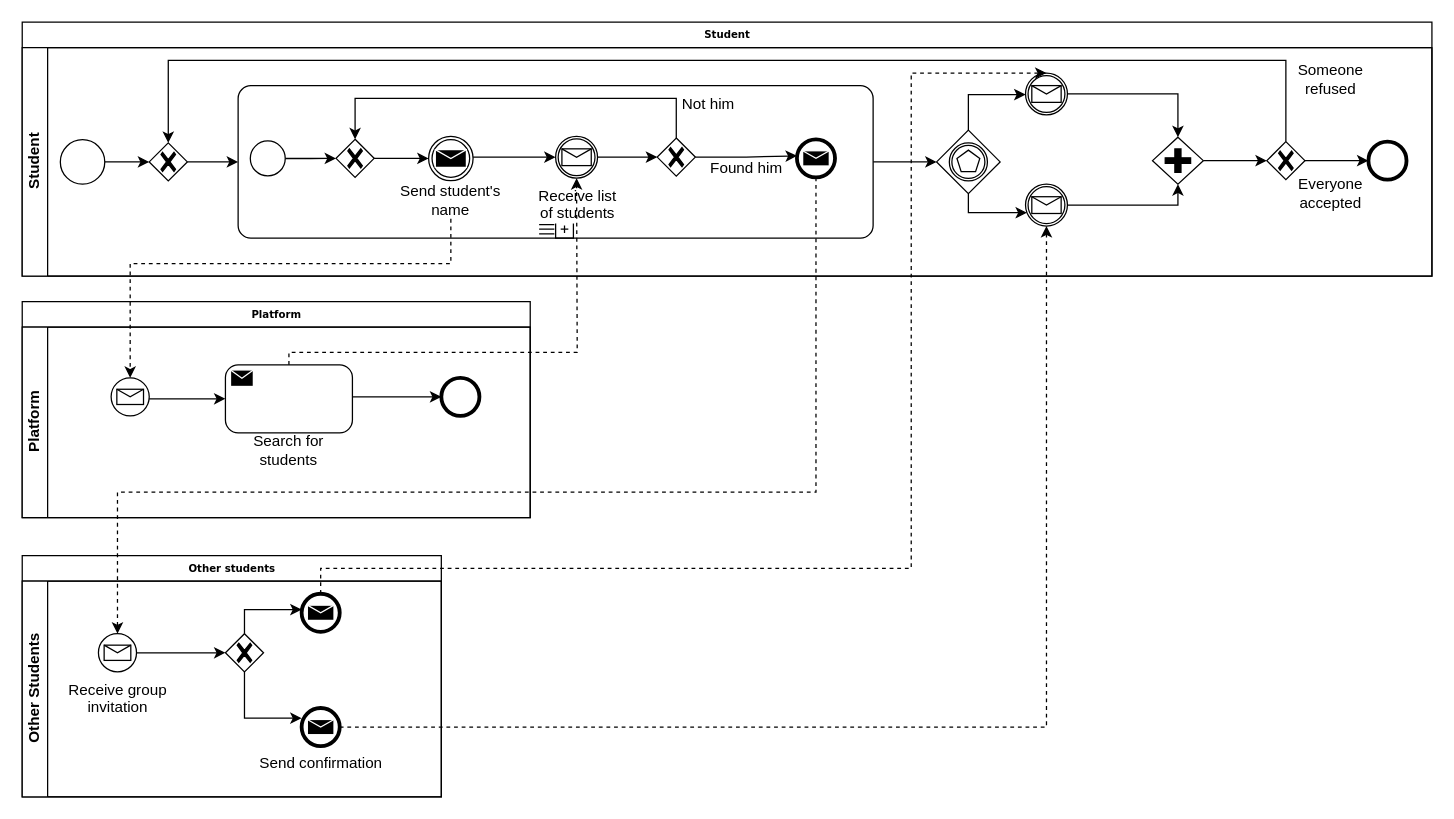
The diagram is 1454 pixels wide and 819 high, and some of its shapes have lost their labels. Each missing label, with the centre of its shape:
Receive confirmation: point (1045, 204)
Receive refusal: point (1045, 93)
Receive student's name: point (129, 396)
Send group invite: point (815, 157)
Send refusal: point (320, 612)
